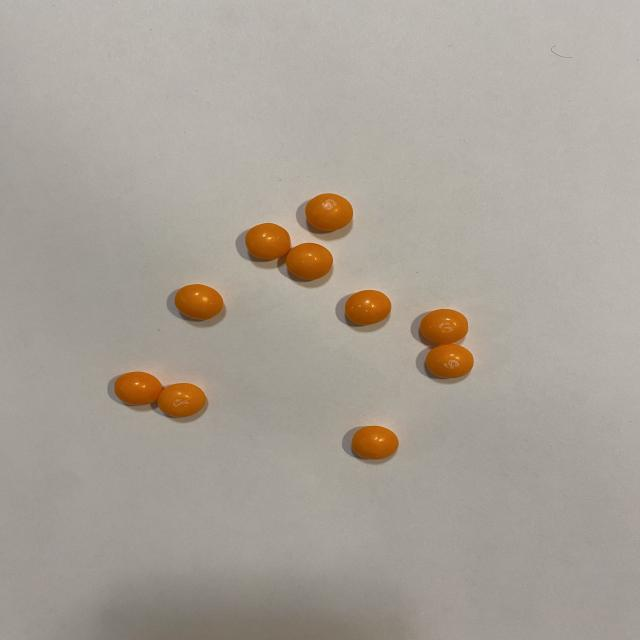smartie: (305, 193, 353, 231), (173, 284, 222, 320), (420, 309, 469, 345), (285, 243, 332, 280), (156, 383, 205, 418), (113, 372, 162, 406), (351, 426, 399, 460), (426, 344, 474, 378), (245, 223, 290, 259), (345, 290, 391, 325)
